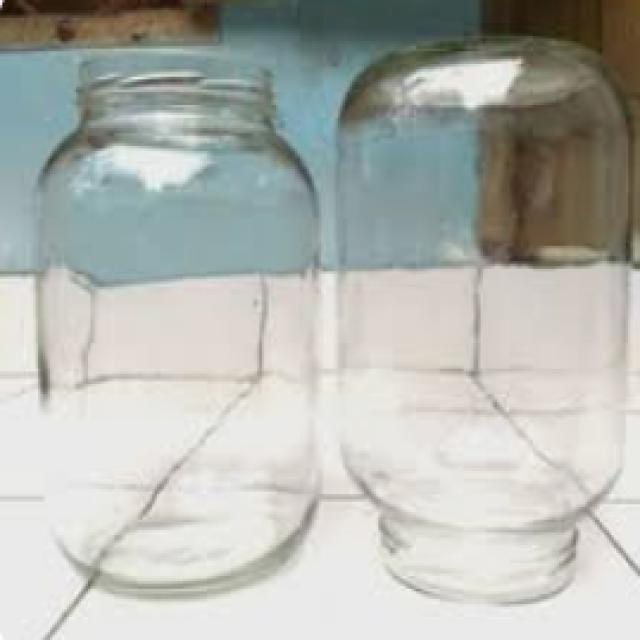ToplesKaca: (350, 48, 640, 603), (35, 55, 330, 593)
